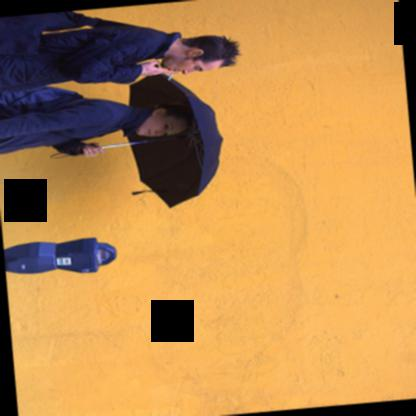backpack: (0, 11, 169, 55), (0, 86, 85, 118)
